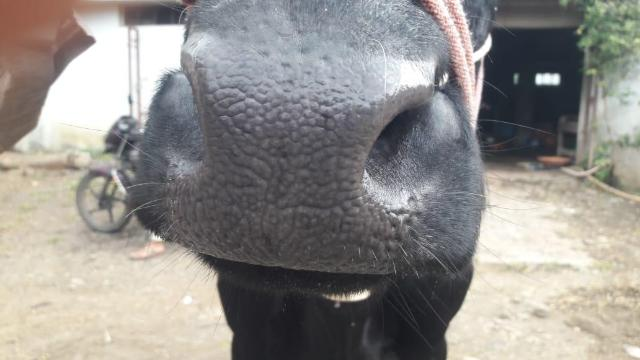Muzzle: (184, 48, 386, 264)
